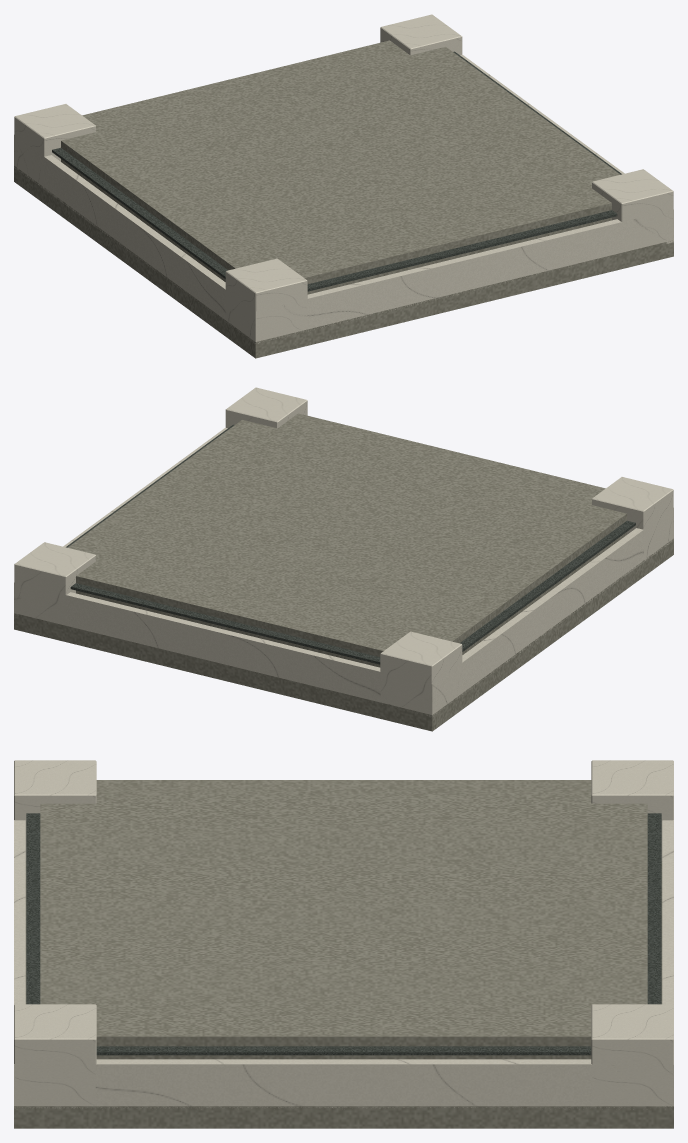
3 views of the same model, one above another, from view 1: azimuth 30°, elevation 25°; view 2: azimuth 150°, elevation 25°; view 3: azimuth 270°, elevation 25° (orthographic). The views are drawn at different scales.
Visible parts, largest first — view 1: LOD2__Plinth bearing body, LOD2__Perimeter exposed marble footing edge, LOD2__Footing bottom bearing pad, LOD2__Perimeter exposed marble footing edge.002, LOD2__Independent marble corner bearing facing, LOD2__Independent marble corner bearing facing.002, LOD2__Independent marble corner bearing facing.001, LOD2__Separate open drainage channel bed, LOD2__Independent marble corner bearing facing.003, LOD2__Separate open drainage channel bed.002, LOD2__Perimeter exposed marble footing edge.003; view 2: LOD2__Plinth bearing body, LOD2__Perimeter exposed marble footing edge.001, LOD2__Footing bottom bearing pad, LOD2__Perimeter exposed marble footing edge.002, LOD2__Independent marble corner bearing facing.001, LOD2__Independent marble corner bearing facing.003, LOD2__Independent marble corner bearing facing, LOD2__Separate open drainage channel bed.001, LOD2__Independent marble corner bearing facing.002, LOD2__Separate open drainage channel bed.002, LOD2__Perimeter exposed marble footing edge.003; view 3: LOD2__Plinth bearing body, LOD2__Perimeter exposed marble footing edge.003, LOD2__Footing bottom bearing pad, LOD2__Independent marble corner bearing facing.003, LOD2__Independent marble corner bearing facing.002, LOD2__Separate open drainage channel bed.003, LOD2__Independent marble corner bearing facing, LOD2__Independent marble corner bearing facing.001, LOD2__Separate open drainage channel bed, LOD2__Separate open drainage channel bed.001, LOD2__Perimeter exposed marble footing edge, LOD2__Perimeter exposed marble footing edge.001.
Part boxes in pixels (x1,y1,x2,y2): LOD2__Plinth bearing body: (61, 40, 620, 294); LOD2__Perimeter exposed marble footing edge: (251, 209, 673, 343); LOD2__Footing bottom bearing pad: (14, 166, 673, 358); LOD2__Perimeter exposed marble footing edge.002: (14, 138, 262, 341); LOD2__Independent marble corner bearing facing: (225, 258, 307, 341); LOD2__Independent marble corner bearing facing.002: (592, 169, 673, 251); LOD2__Independent marble corner bearing facing.001: (14, 104, 95, 185); LOD2__Separate open drainage channel bed: (307, 210, 617, 291); LOD2__Independent marble corner bearing facing.003: (380, 14, 462, 55); LOD2__Separate open drainage channel bed.002: (52, 147, 227, 278); LOD2__Perimeter exposed marble footing edge.003: (460, 54, 673, 243); LOD2__Plinth bearing body: (67, 413, 626, 667); LOD2__Perimeter exposed marble footing edge.001: (14, 584, 435, 714); LOD2__Footing bottom bearing pad: (14, 538, 673, 731); LOD2__Perimeter exposed marble footing edge.002: (425, 508, 673, 716); LOD2__Independent marble corner bearing facing.001: (380, 631, 462, 714); LOD2__Independent marble corner bearing facing.003: (14, 542, 95, 624); LOD2__Independent marble corner bearing facing: (592, 477, 673, 559); LOD2__Separate open drainage channel bed.001: (70, 583, 380, 664); LOD2__Independent marble corner bearing facing.002: (225, 387, 307, 428); LOD2__Separate open drainage channel bed.002: (460, 520, 635, 651); LOD2__Perimeter exposed marble footing edge.003: (14, 427, 227, 615); LOD2__Plinth bearing body: (40, 780, 647, 1059); LOD2__Perimeter exposed marble footing edge.003: (14, 1059, 673, 1109); LOD2__Footing bottom bearing pad: (14, 862, 673, 1128); LOD2__Independent marble corner bearing facing.003: (591, 1004, 673, 1105); LOD2__Independent marble corner bearing facing.002: (14, 1004, 96, 1105); LOD2__Separate open drainage channel bed.003: (96, 1046, 591, 1055); LOD2__Independent marble corner bearing facing: (14, 760, 96, 861); LOD2__Independent marble corner bearing facing.001: (591, 760, 673, 861); LOD2__Separate open drainage channel bed: (26, 813, 40, 1004); LOD2__Separate open drainage channel bed.001: (647, 813, 661, 1004); LOD2__Perimeter exposed marble footing edge: (14, 820, 25, 1108); LOD2__Perimeter exposed marble footing edge.001: (662, 820, 673, 1106).
Bounding box in the file's own units: 4 × 0.6 × 4.
Materials: 3 (3 with a texture image).
